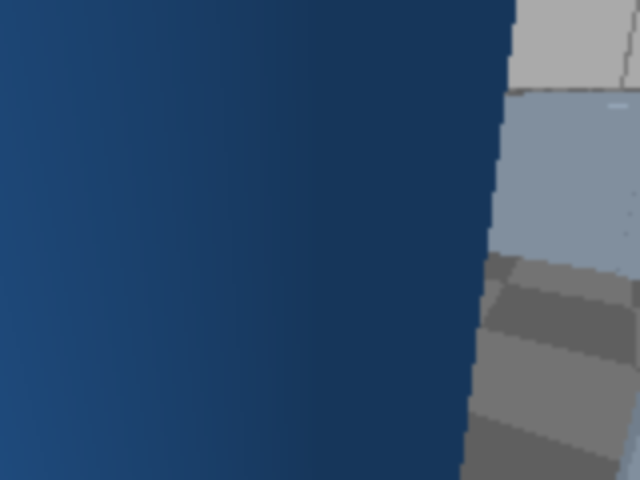goal_zone: (156, 170, 242, 186)
puck: (29, 206, 53, 223), (327, 193, 344, 210)
